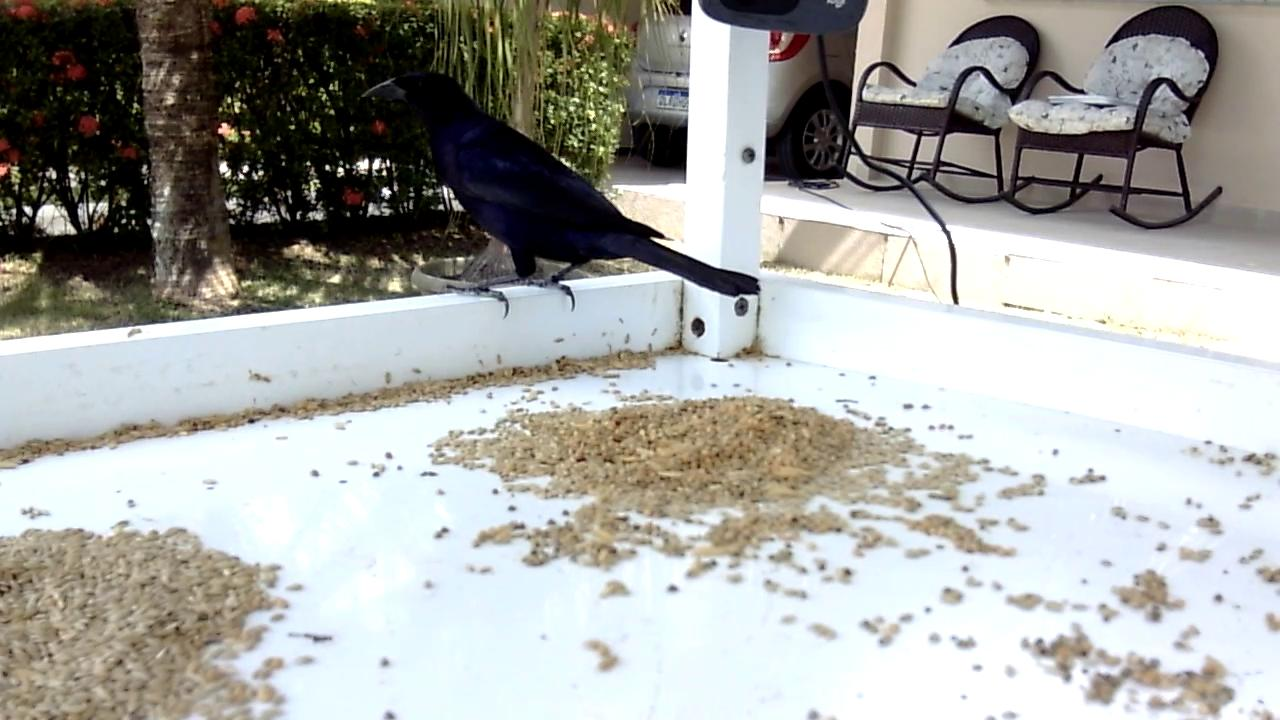chupim: (361, 70, 763, 323)
